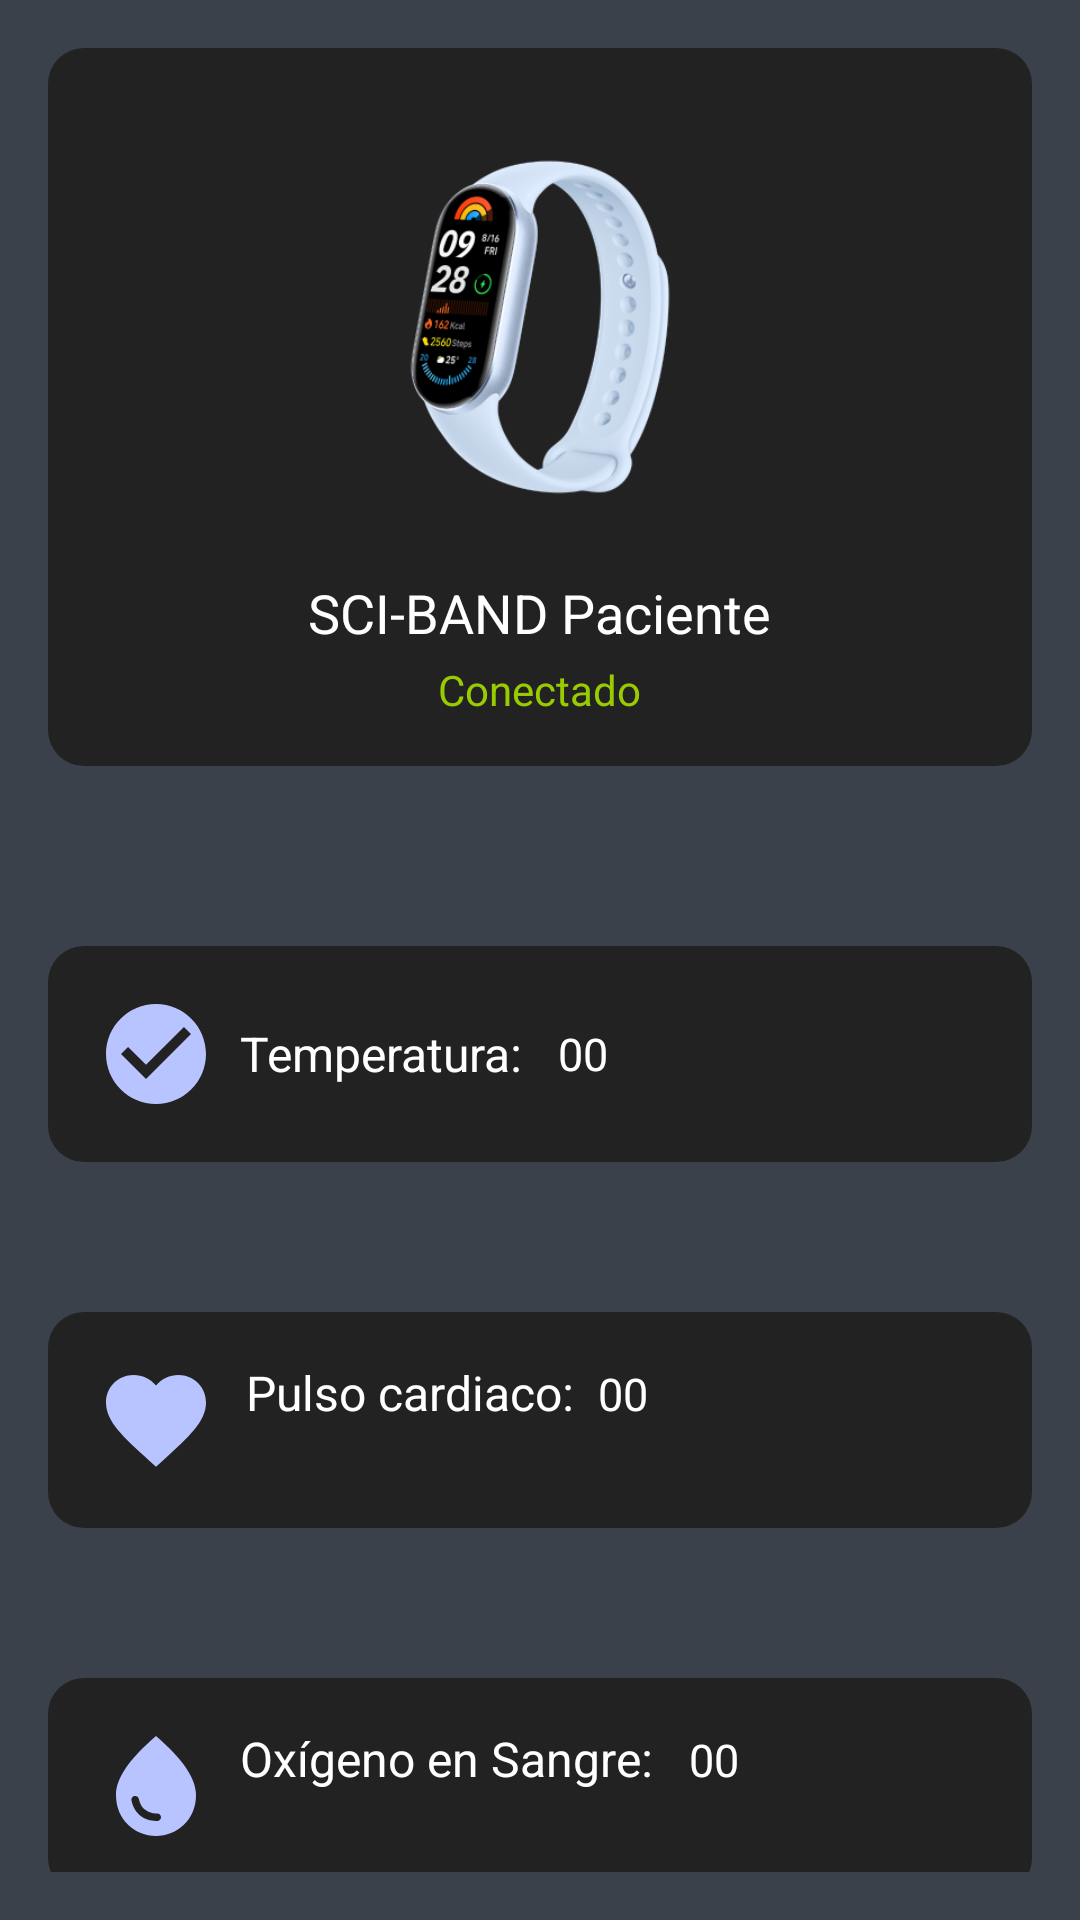

Screen size 1080x1920. Icon name, then its center in pixels as (x,y):
check: (156,1054)
corazon: (156,1421)
oxigeno: (156,1786)
pulsera: (540,327)
